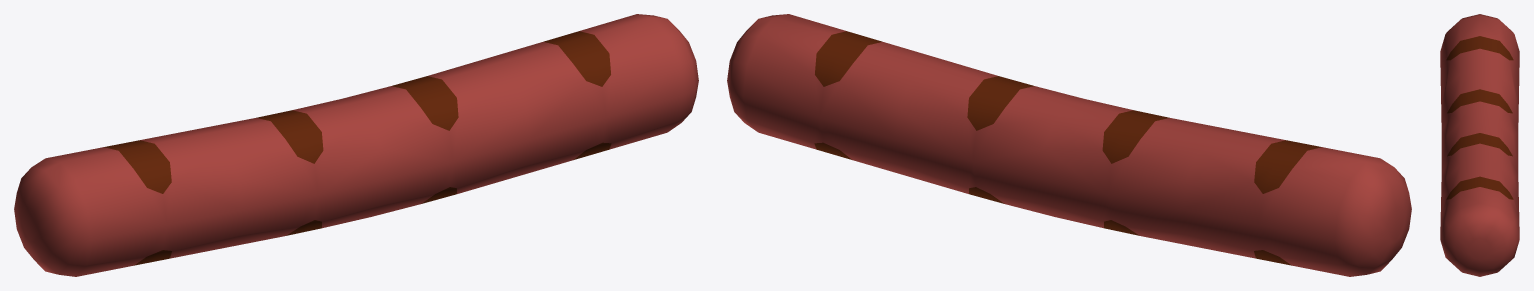
Rendered from Sausage_gril.003.fbx.
3 renders of one model, left to right at view 1: azimuth 30°, elevation 25°; view 2: azimuth 150°, elevation 25°; view 3: azimuth 270°, elevation 25°, orthographic. The views are drawn at different scales.
Parts seen in each view (by area): view 1: Sausage_gril.003; view 2: Sausage_gril.003; view 3: Sausage_gril.003.
Boxes of the visible parts, <box> form: Sausage_gril.003: <box>14,14,698,276</box>; Sausage_gril.003: <box>727,14,1411,276</box>; Sausage_gril.003: <box>1440,14,1519,276</box>.
Bounding box in the file's own units: 160 × 25.88 × 28.84.
